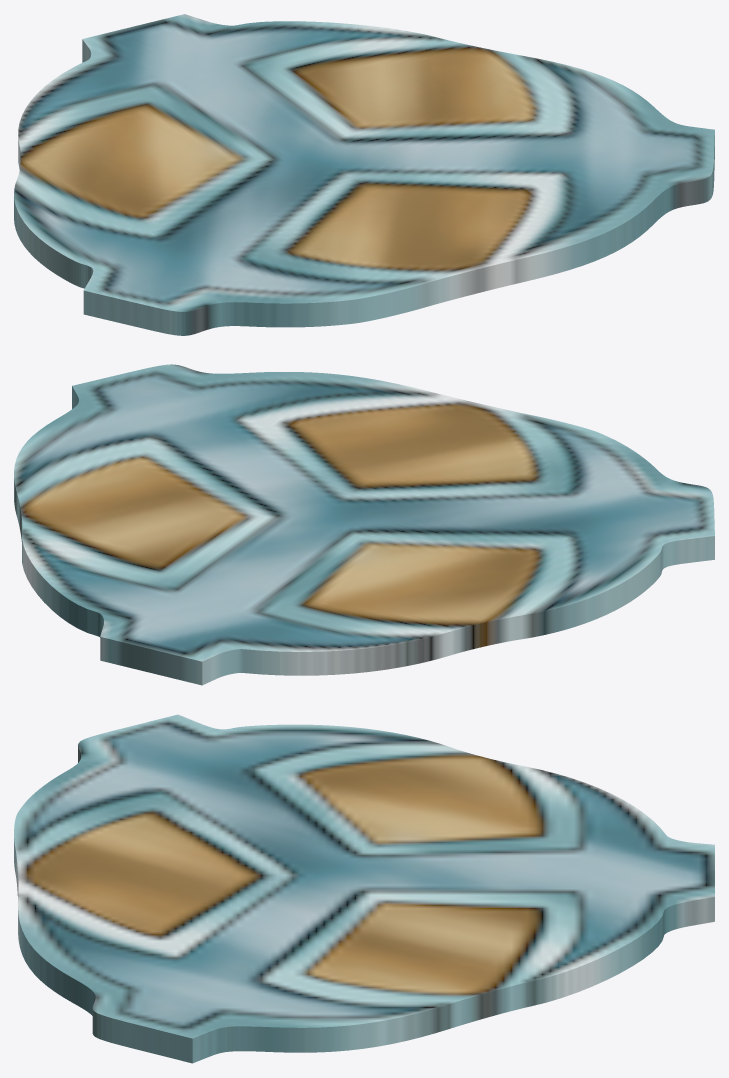
3 renders of one model, top to bottom at view 1: azimuth 30°, elevation 25°; view 2: azimuth 150°, elevation 25°; view 3: azimuth 270°, elevation 25°, orthographic. The views are drawn at different scales.
Parts seen in each view (by area): view 1: path1587; view 2: path1587; view 3: path1587.
Boxes of the visible parts, x1=… form: path1587: x1=14, y1=14, x2=714, y2=335; path1587: x1=14, y1=364, x2=714, y2=685; path1587: x1=14, y1=714, x2=714, y2=1063.
Bounding box in the file's own units: 83.79 × 3 × 76.58.
Materials: 1 (1 with a texture image).
